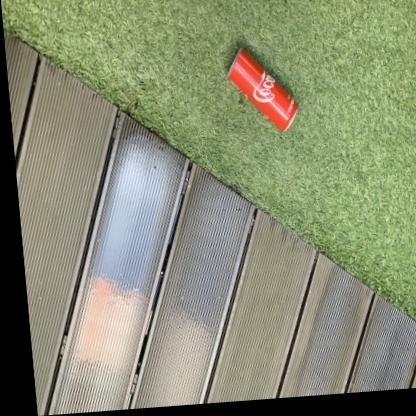trash: (227, 48, 296, 131)
